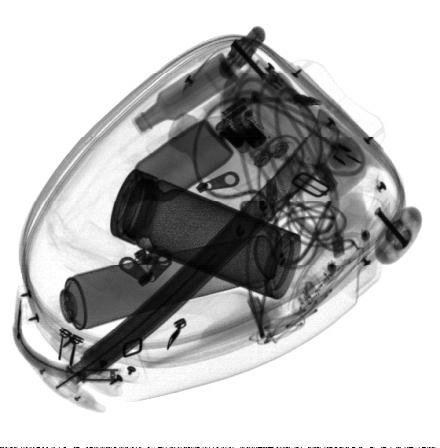Sprayer: (44, 235, 274, 336)
